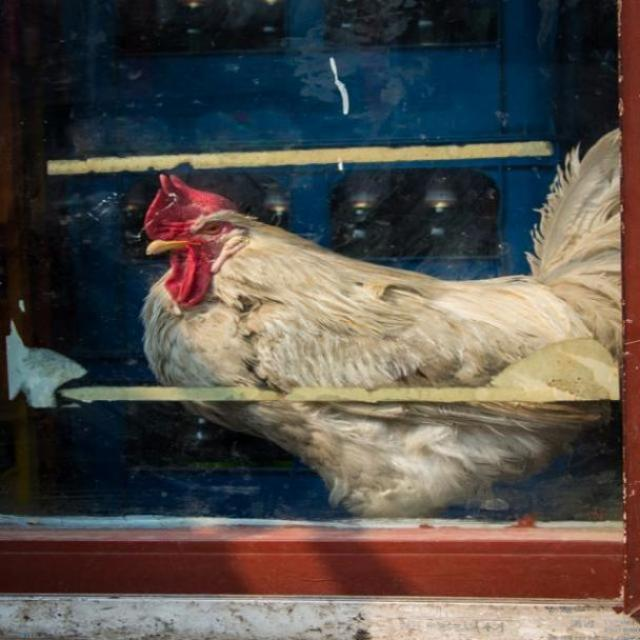Chicken: (141, 156, 640, 507)
